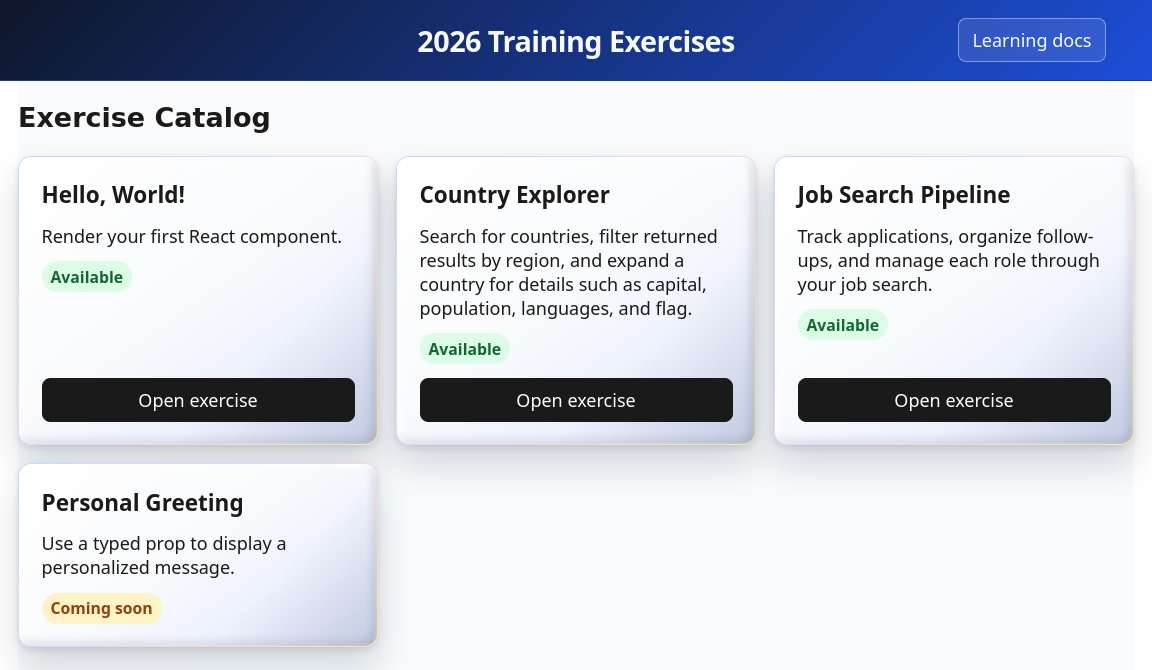
it: App › opens the learning materials from the exercise catalog
Check: the heading "Exercise Catalog" is shown, box [18,102,271,133]
Step 1. Click the link "Learning docs" → (1032, 40), box [958,18,1106,62]
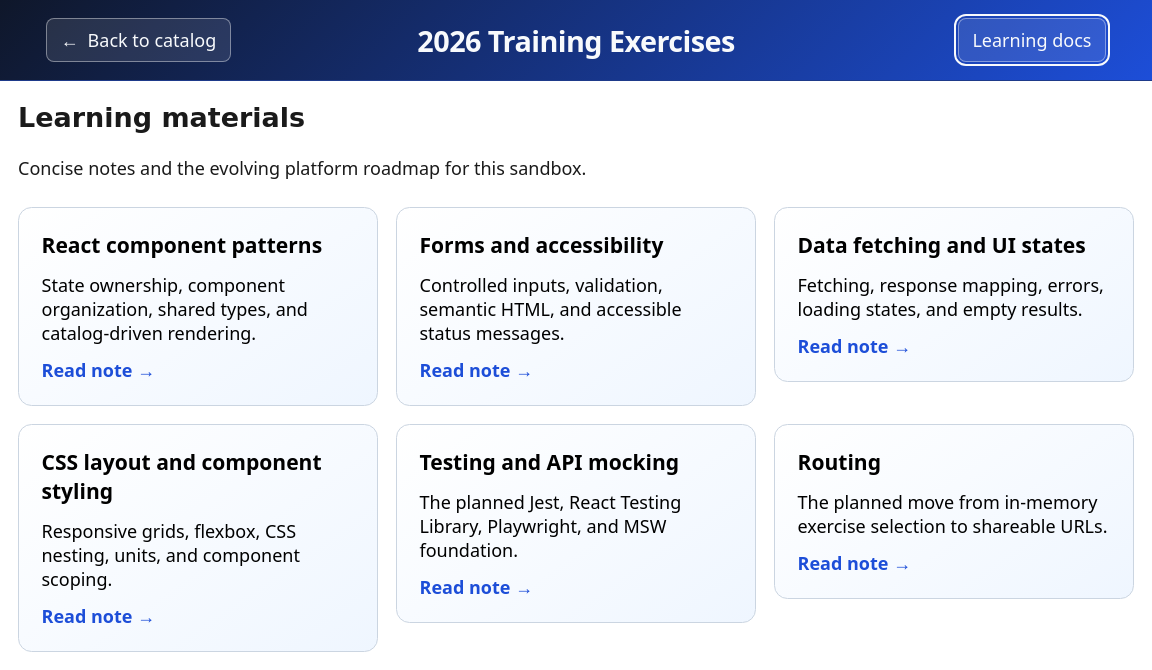
Check: the heading "Learning materials" is shown, box [18,102,305,133]
